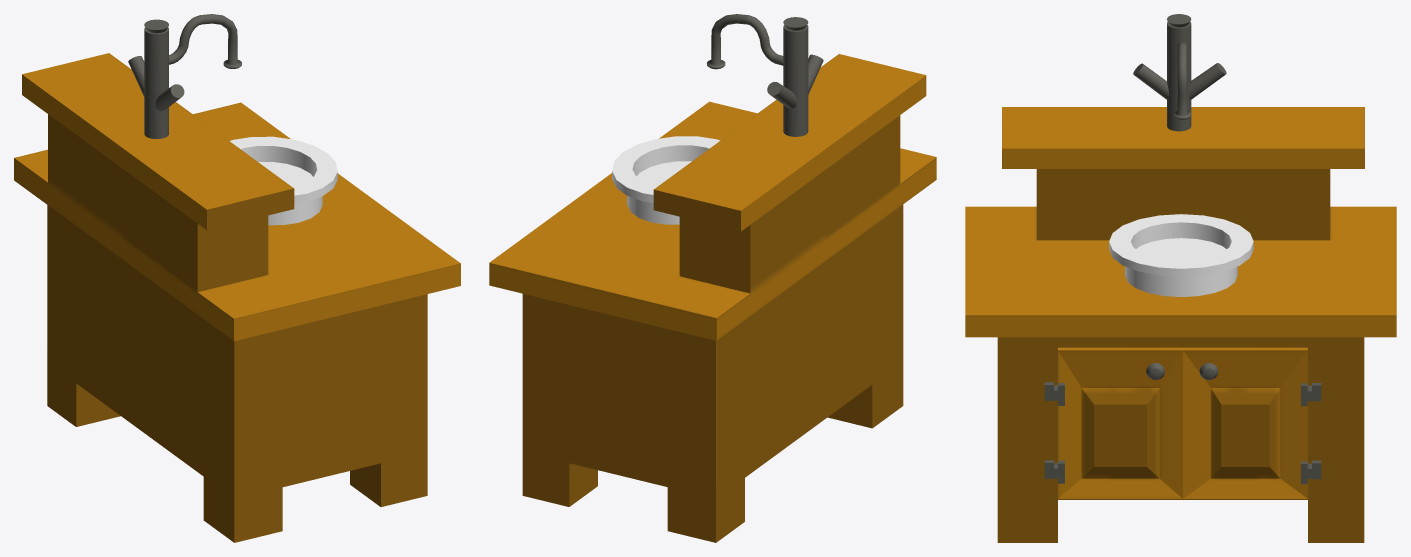
The model's file is sink.fbx.
3 renders of one model, left to right at view 1: azimuth 30°, elevation 25°; view 2: azimuth 150°, elevation 25°; view 3: azimuth 270°, elevation 25°, orthographic. The views are drawn at different scales.
Parts seen in each view (by area): view 1: pCube8; view 2: pCube8; view 3: pCube8.
Part boxes in pixels (x1,y1,x2,y2): pCube8: [14, 14, 460, 542]; pCube8: [489, 14, 936, 542]; pCube8: [965, 14, 1396, 542].
Bounding box in the file's own units: 9.49 × 17.22 × 15.36.
